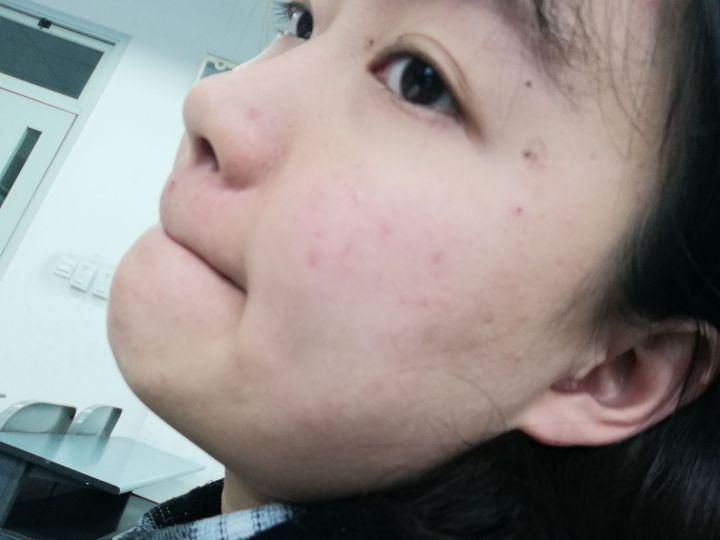fore: (507, 192, 532, 220)
